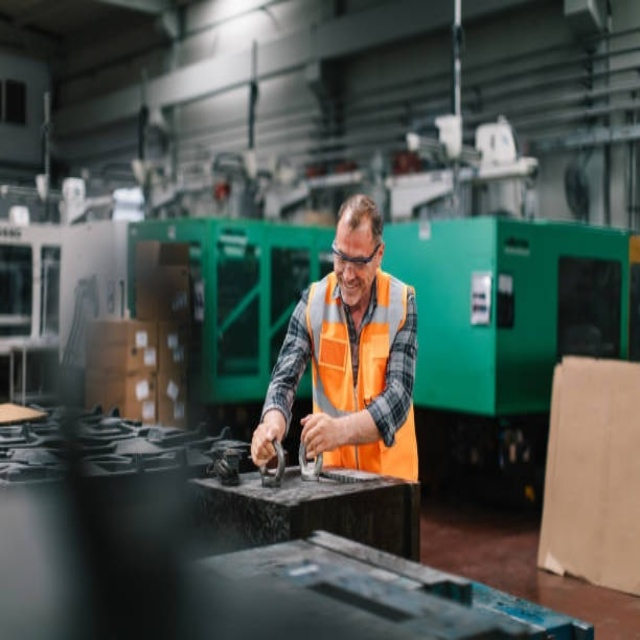Gafas: (332, 239, 381, 265)
Sin_guantes: (296, 409, 337, 459), (250, 420, 282, 467)
Sin_mascara: (338, 275, 362, 304)
